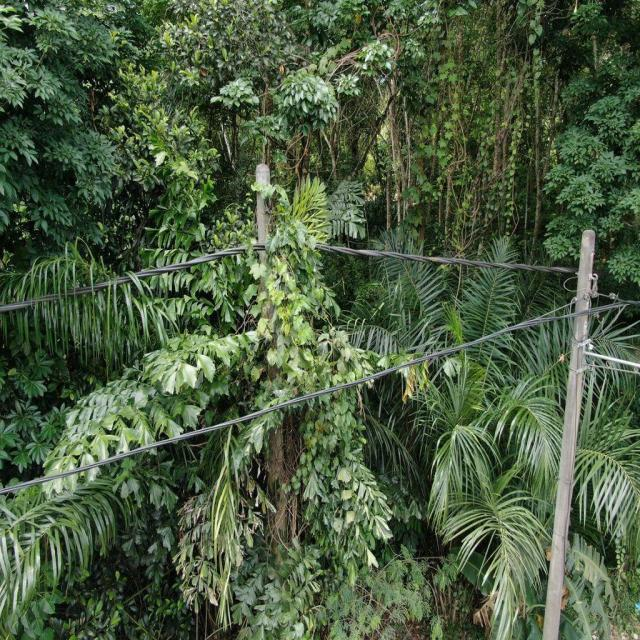critical vegetation: (239, 156, 304, 562)
